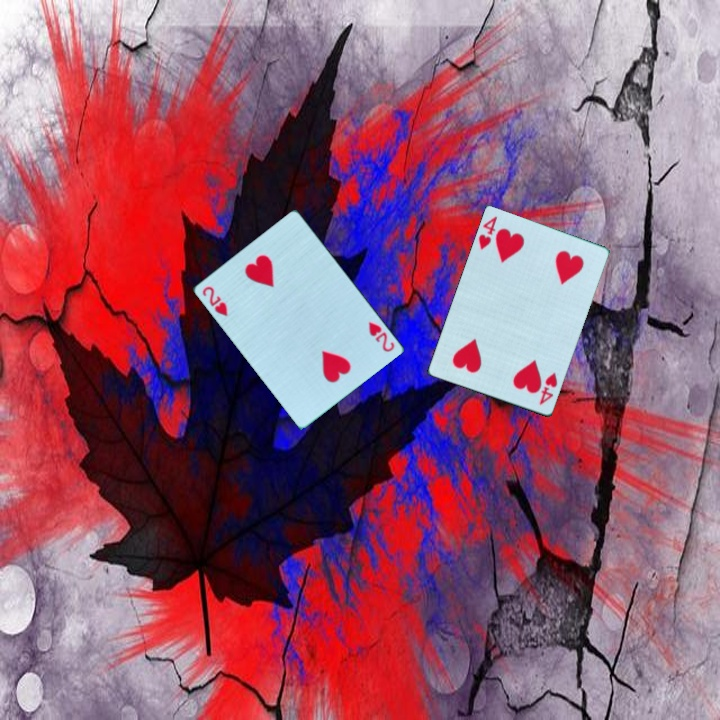2h: (198, 282, 231, 319), (364, 318, 397, 355)
4h: (475, 213, 500, 253), (536, 369, 561, 408)
